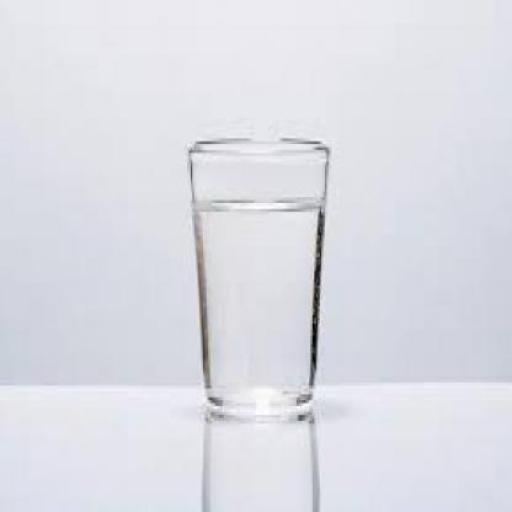glass: (187, 138, 326, 421)
